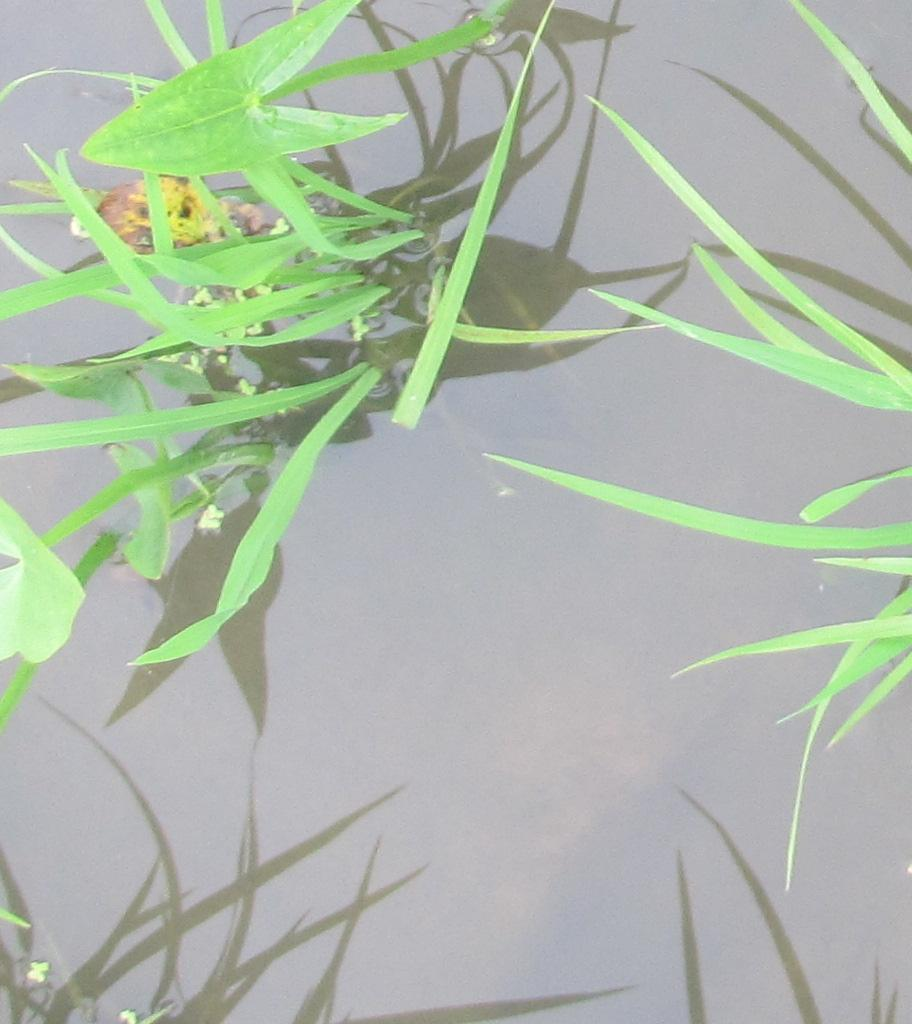Weed: (85, 3, 394, 164), (3, 510, 89, 678)
